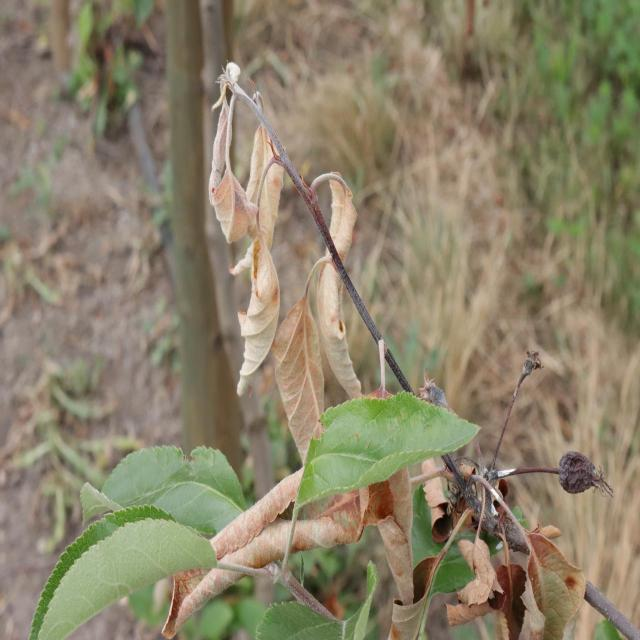-FireBlight-: (148, 80, 595, 640)
